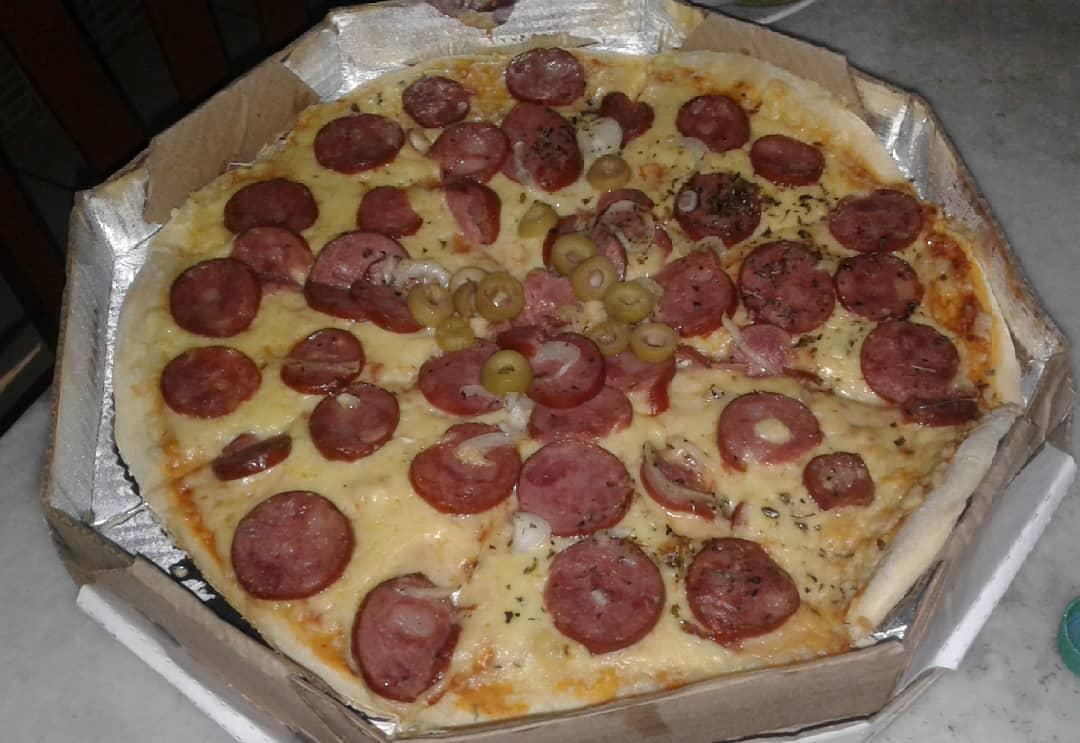Ham: (546, 535, 667, 653), (354, 575, 462, 697), (232, 491, 353, 598), (686, 537, 800, 642), (518, 440, 634, 535), (410, 422, 518, 513), (718, 390, 823, 473), (649, 246, 739, 341), (309, 230, 411, 313), (740, 242, 835, 331), (863, 320, 960, 402), (168, 258, 260, 337), (310, 383, 399, 462), (418, 338, 509, 415), (159, 348, 262, 416), (508, 99, 583, 190), (489, 268, 579, 337), (523, 333, 605, 408), (677, 174, 762, 246), (835, 253, 924, 321), (417, 122, 507, 189), (830, 188, 922, 253), (543, 216, 627, 284), (528, 386, 633, 439), (281, 329, 365, 392), (314, 114, 403, 173), (224, 178, 319, 232), (232, 225, 314, 287), (506, 50, 589, 99), (677, 96, 749, 151), (805, 453, 874, 510), (446, 177, 502, 246), (212, 435, 289, 482), (403, 74, 471, 127), (751, 135, 823, 185), (729, 323, 795, 375), (358, 186, 423, 237), (601, 91, 652, 145), (594, 188, 655, 230), (623, 226, 673, 272)
Olives: (477, 272, 525, 321), (483, 350, 534, 393), (570, 256, 616, 300), (551, 235, 597, 278), (409, 285, 454, 328), (605, 283, 654, 322), (631, 323, 679, 361), (516, 202, 557, 238), (588, 154, 631, 188), (590, 322, 630, 357), (435, 317, 473, 350), (449, 267, 488, 294), (454, 281, 477, 317)
Pizza: (113, 50, 1021, 727)
